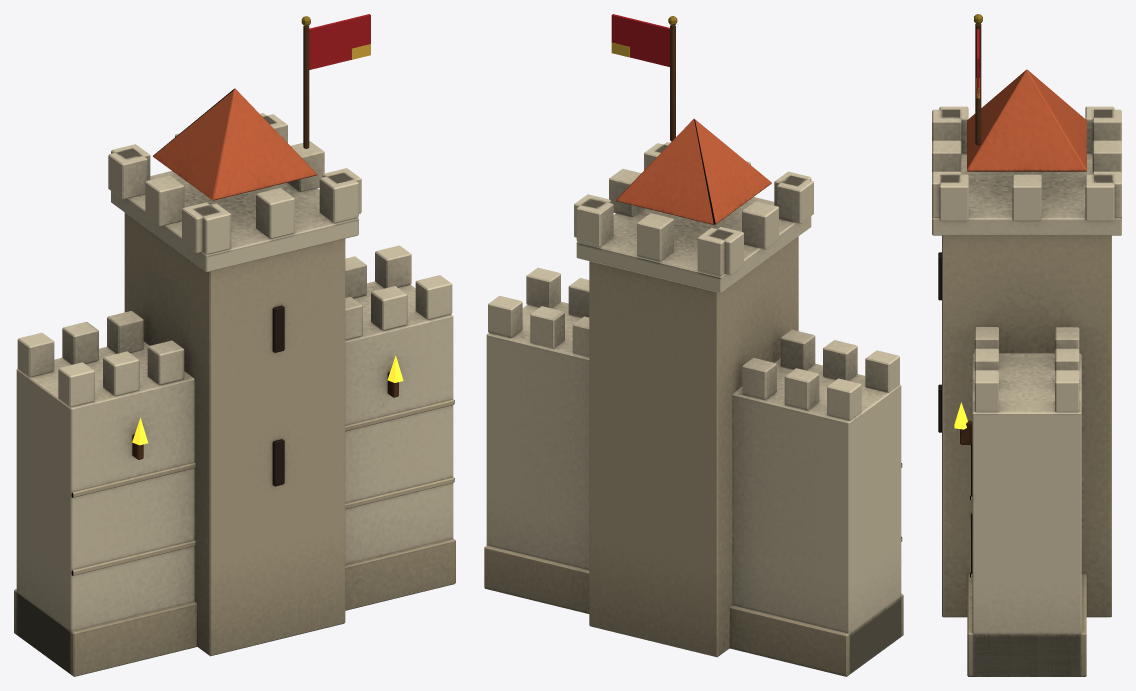
The model's file is mury.glb.
3 renders of one model, left to right at view 1: azimuth 30°, elevation 25°; view 2: azimuth 150°, elevation 25°; view 3: azimuth 270°, elevation 25°, orthographic. The views are drawn at different scales.
Visible parts, largest first — view 1: mury, anim_kolys_flaga_baszta; view 2: mury, anim_kolys_flaga_baszta; view 3: mury.
Part boxes in pixels (x1,y1,x2,y2): mury: [14, 16, 455, 676]; anim_kolys_flaga_baszta: [309, 14, 370, 69]; mury: [484, 16, 903, 676]; anim_kolys_flaga_baszta: [611, 14, 669, 66]; mury: [932, 14, 1121, 676].
Bounding box in the file's own units: 1.8 × 2.69 × 0.78.
Materials: 4 (1 with a texture image).
